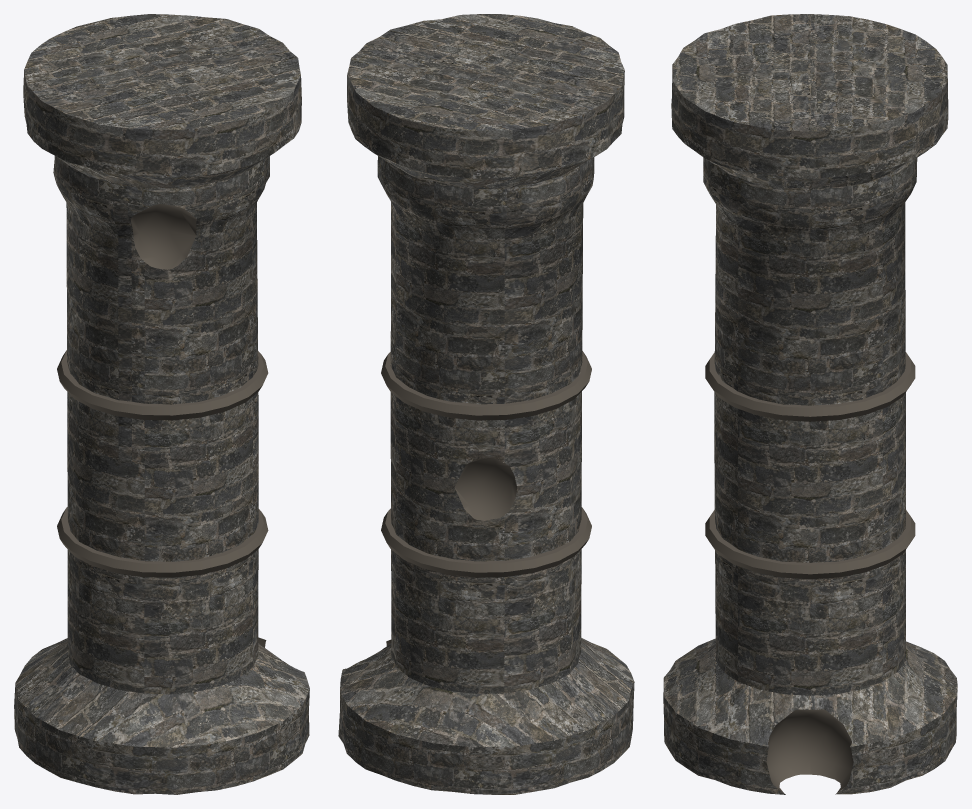
The model's file is pillar-v01.glb.
3 renders of one model, left to right at view 1: azimuth 30°, elevation 25°; view 2: azimuth 150°, elevation 25°; view 3: azimuth 270°, elevation 25°, orthographic.
Visible parts, largest first — view 1: pillar; view 2: pillar; view 3: pillar.
Part boxes in pixels (x1=…): pillar: x1=14, y1=14, x2=309, y2=794; pillar: x1=338, y1=14, x2=634, y2=794; pillar: x1=663, y1=14, x2=957, y2=794.
Size of the model in its own units: 1.68 by 4.21 by 1.7.
1 material, 1 textured.
